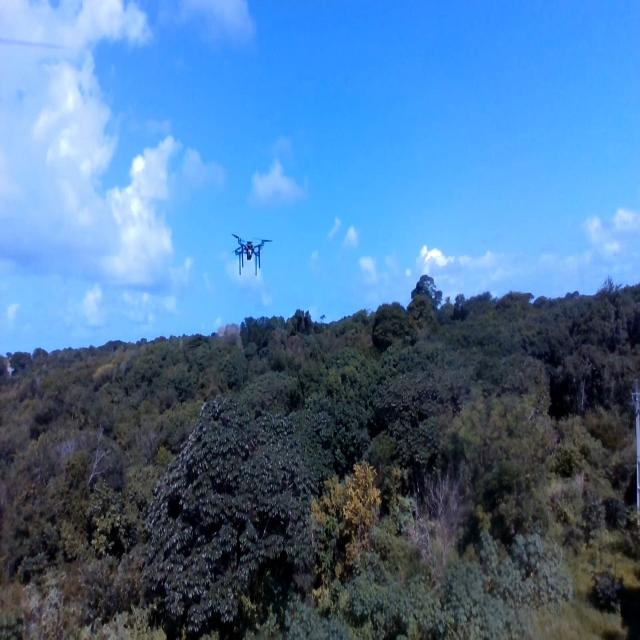-uav-: (226, 227, 275, 282)
